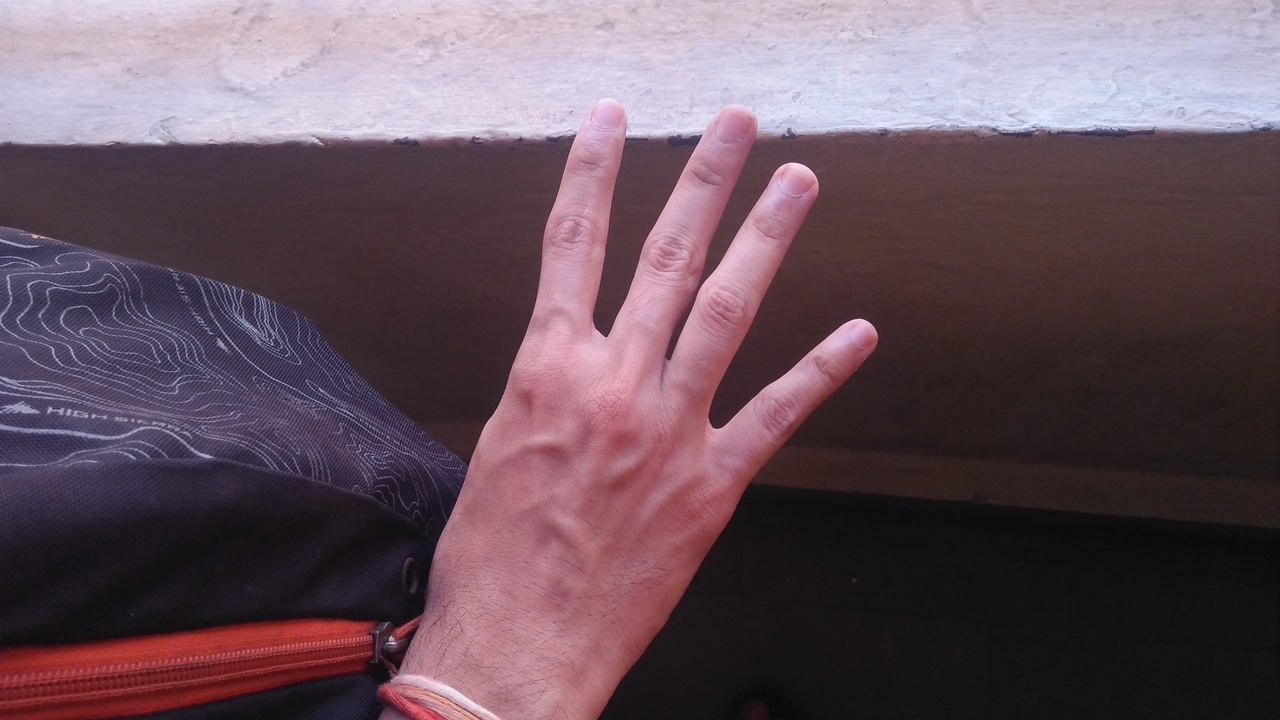fingertip: (764, 154, 828, 208), (828, 308, 886, 362), (702, 102, 764, 150), (576, 94, 630, 138)
